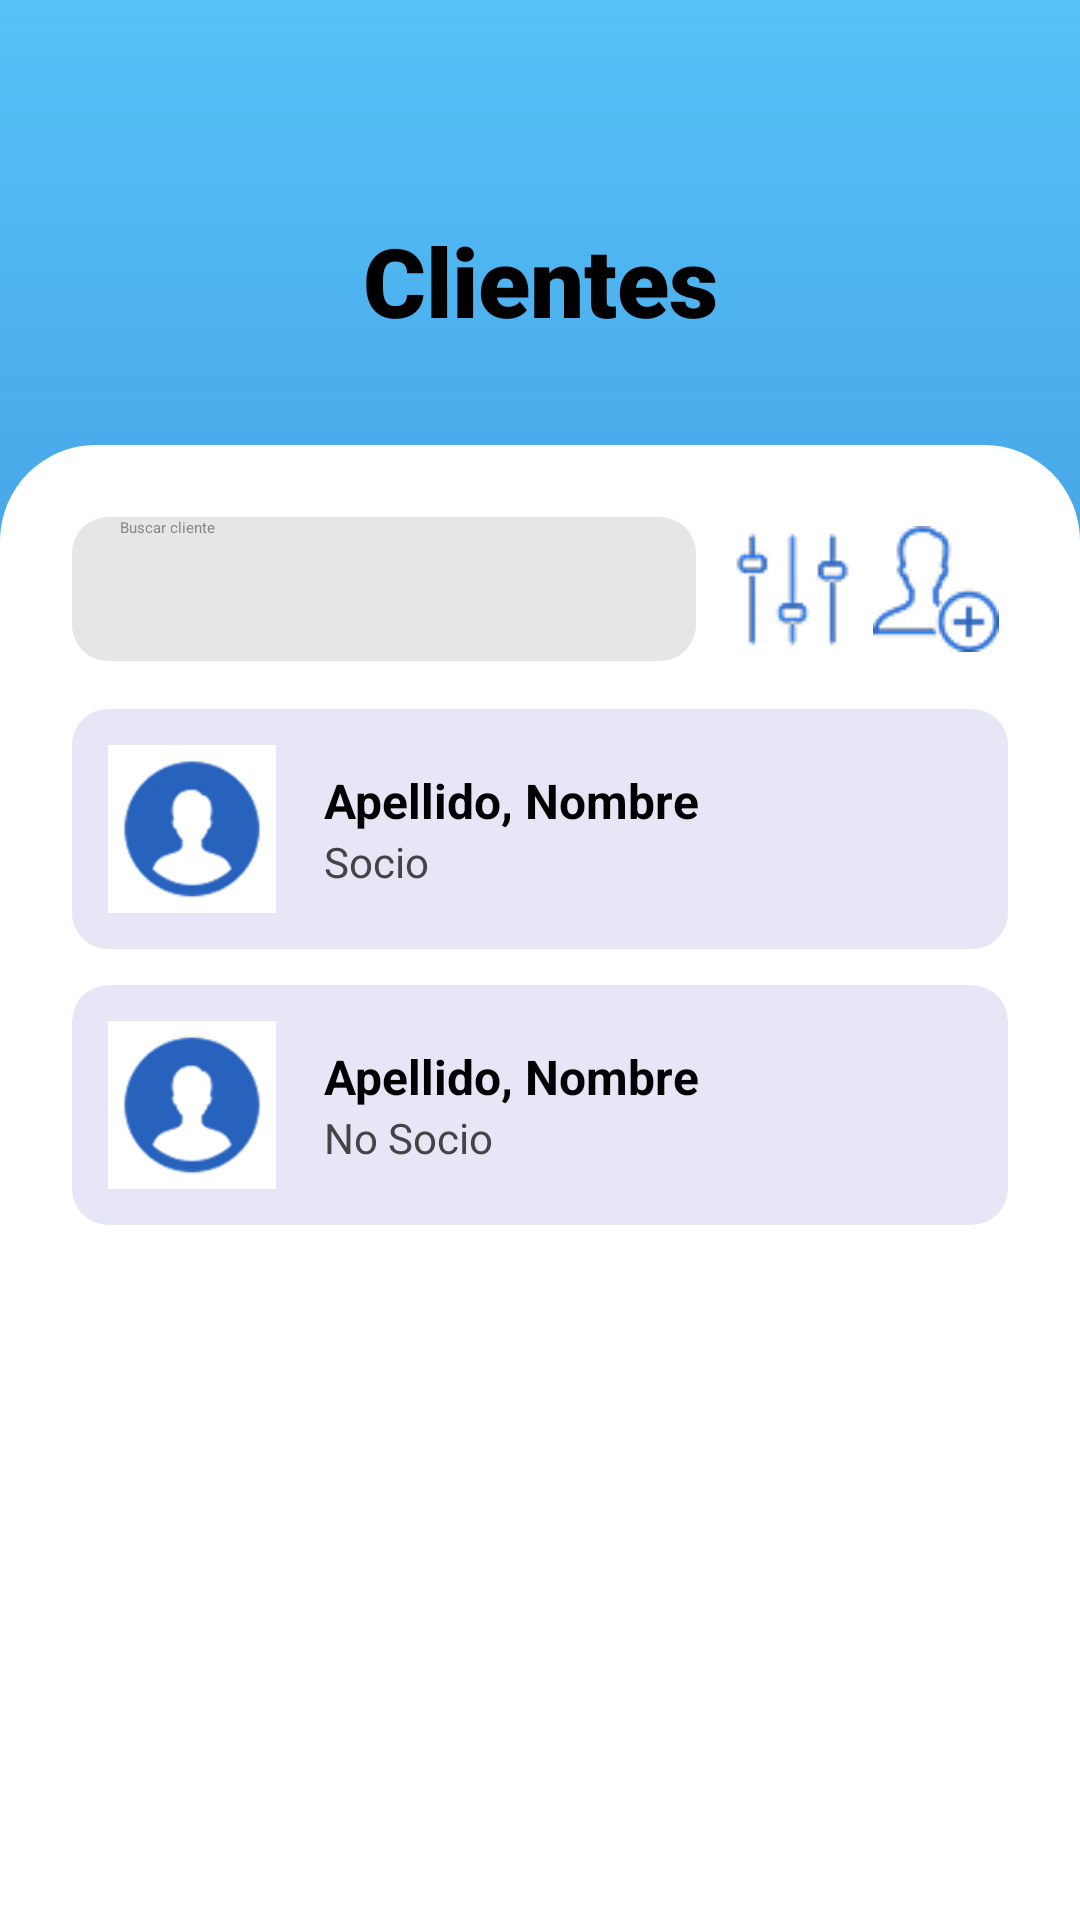

Where to tap for icons on this 1080*1920 app screen, as [x,y]:
Agregar cliente: [936,589]
Filtrar: [792,589]
